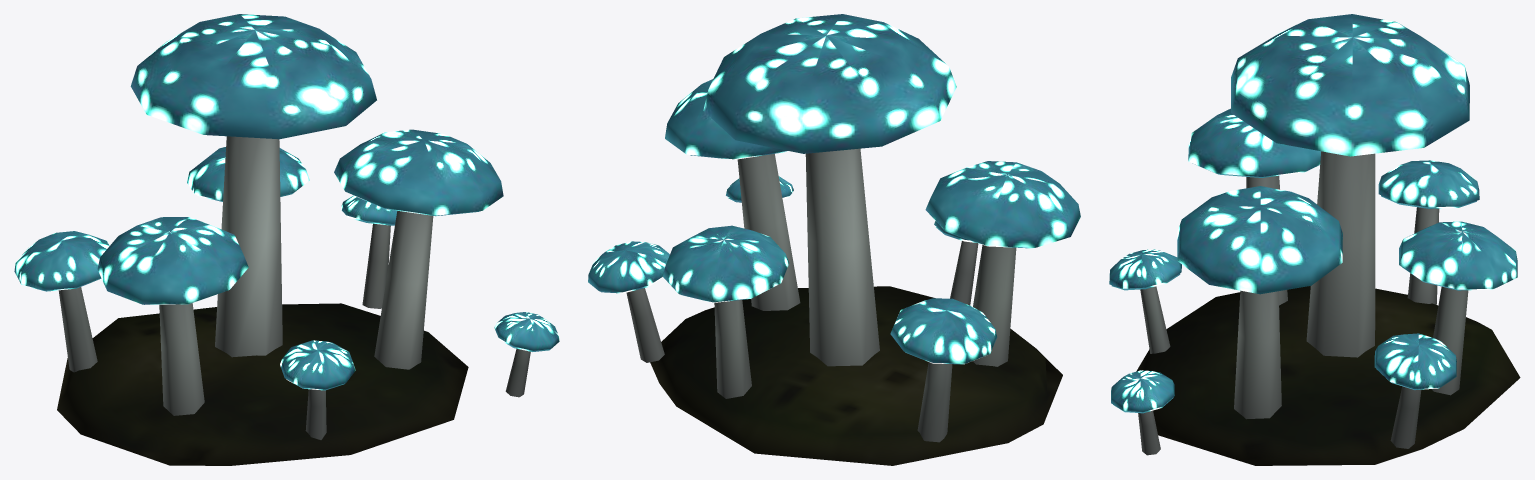
Rendered from mirewell_mushrooms.glb.
The picture shows the model from 3 angles, left to right: view 1: azimuth 30°, elevation 25°; view 2: azimuth 150°, elevation 25°; view 3: azimuth 270°, elevation 25°; orthographic projection. The views are drawn at different scales.
Visible parts, largest first — view 1: mirewell_mushrooms; view 2: mirewell_mushrooms; view 3: mirewell_mushrooms.
Part boxes in pixels (<box>): mirewell_mushrooms: <box>14,14,559,465</box>; mirewell_mushrooms: <box>588,14,1080,465</box>; mirewell_mushrooms: <box>1109,14,1520,465</box>.
Bounding box in the file's own units: 0.9526 × 0.7964 × 0.8511.
3 materials, 2 textured.
